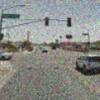cars: (77, 55, 100, 76)
